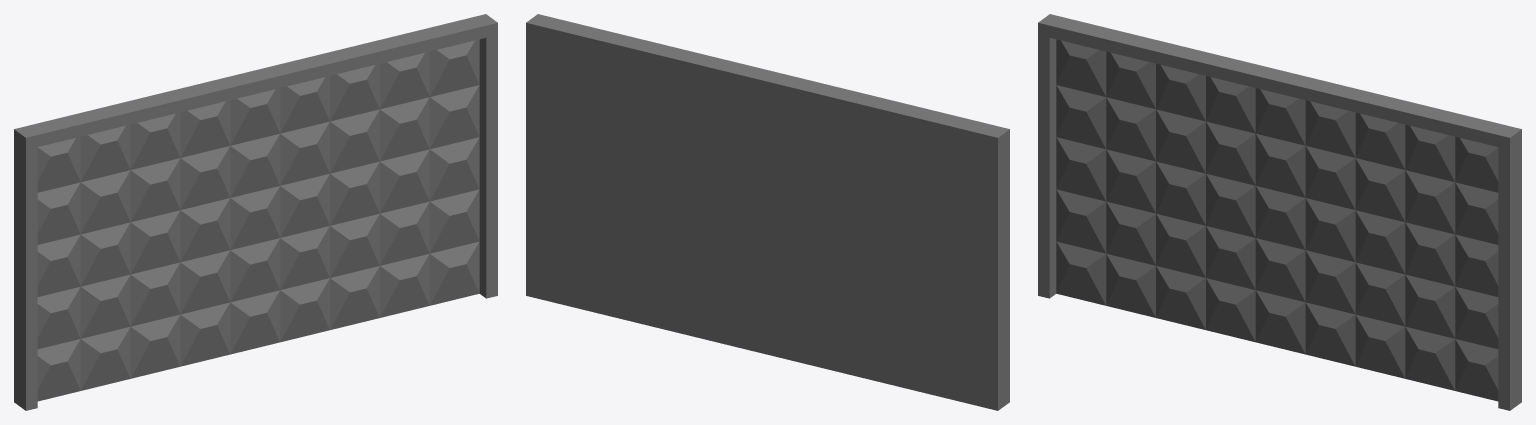
The model's file is Fence.fbx.
3 renders of one model, left to right at view 1: azimuth 30°, elevation 25°; view 2: azimuth 150°, elevation 25°; view 3: azimuth 330°, elevation 25°, orthographic.
Parts seen in each view (by area): view 1: Cube.011; view 2: Cube.011; view 3: Cube.011.
Part boxes in pixels (box(x1,y1,x2,y2)): Cube.011: box(14, 14, 497, 410); Cube.011: box(526, 14, 1009, 410); Cube.011: box(1038, 14, 1521, 410).
Size of the model in its own units: 5739 by 3173 by 252.
